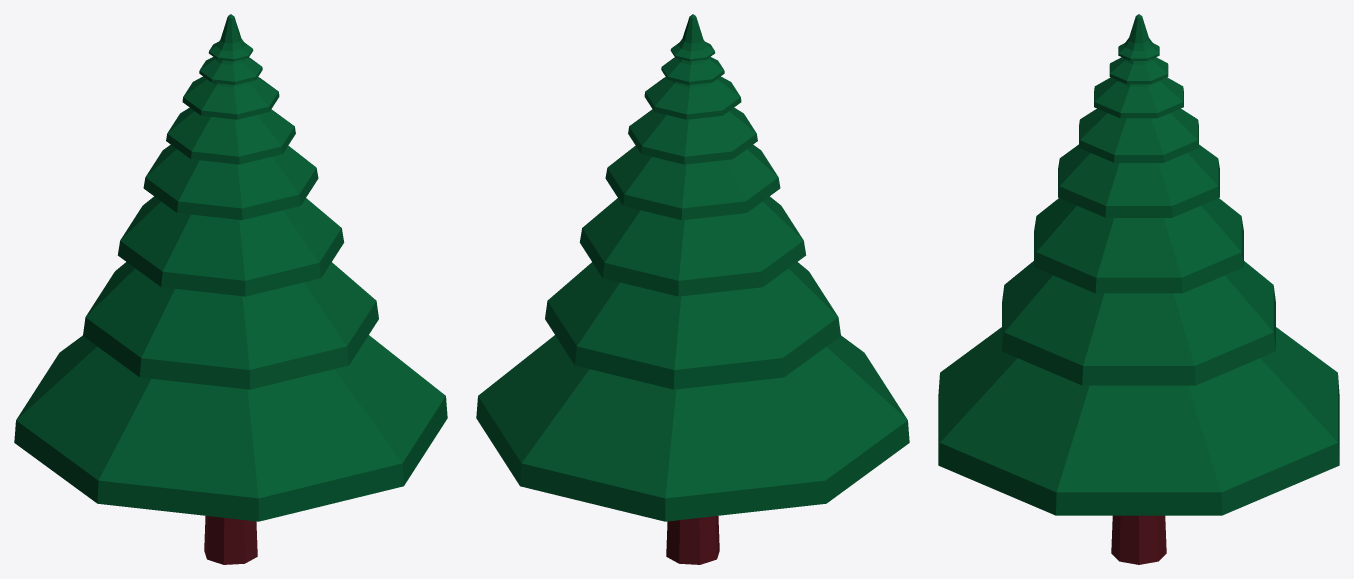
File: pineTree.glb
3 renders of one model, left to right at view 1: azimuth 30°, elevation 25°; view 2: azimuth 150°, elevation 25°; view 3: azimuth 270°, elevation 25°, orthographic.
Visible parts, largest first — view 1: Circle; view 2: Circle; view 3: Circle.
Boxes of the visible parts, box(x1,y1,x2,y2) form: Circle: box(14, 14, 447, 564); Circle: box(476, 14, 909, 564); Circle: box(938, 14, 1339, 564).
Bounding box in the file's own units: 6.79 × 10 × 6.74.
